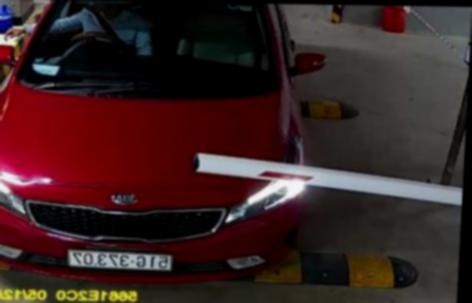License_Plate: (65, 243, 175, 275)
